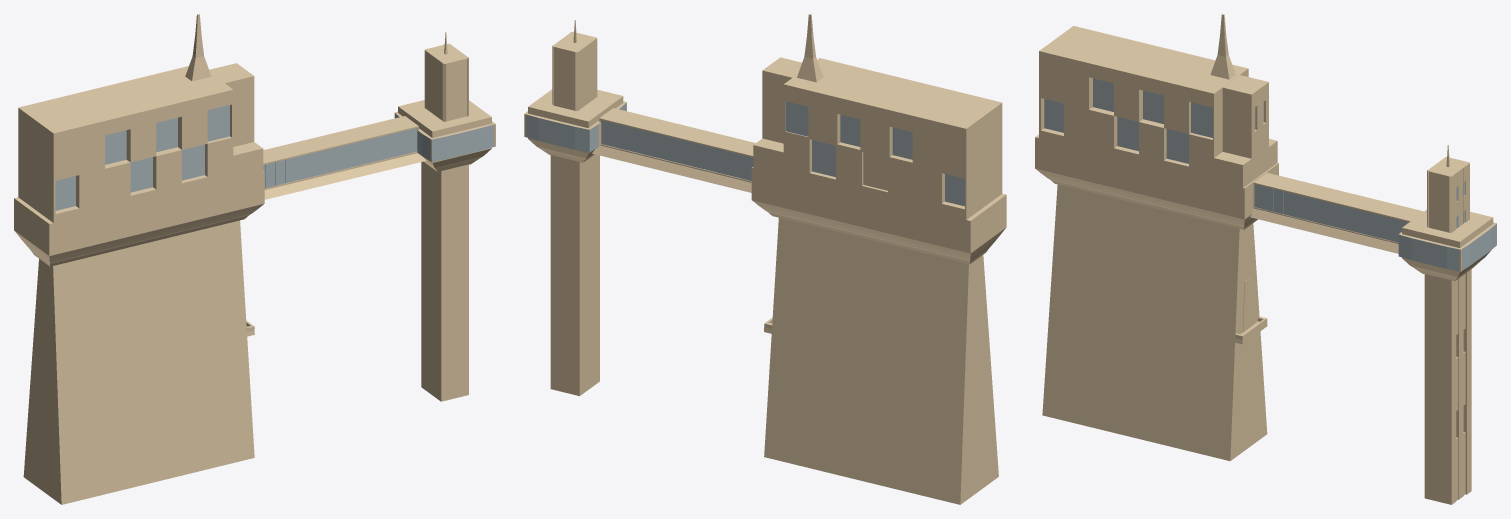
Rendered from Elevador Lacerda New.fbx.
The picture shows the model from 3 angles, left to right: view 1: azimuth 30°, elevation 25°; view 2: azimuth 150°, elevation 25°; view 3: azimuth 330°, elevation 25°; orthographic projection. The views are drawn at different scales.
Parts seen in each view (by area): view 1: Parte de trás do farol; view 2: Parte de trás do farol; view 3: Parte de trás do farol.
Part boxes in pixels (left/top/right/bottom): Parte de trás do farol: left=14, top=14, right=495, bottom=504; Parte de trás do farol: left=524, top=14, right=1006, bottom=504; Parte de trás do farol: left=1035, top=14, right=1496, bottom=504.
Bounding box in the file's own units: 5715 × 5344 × 907.
